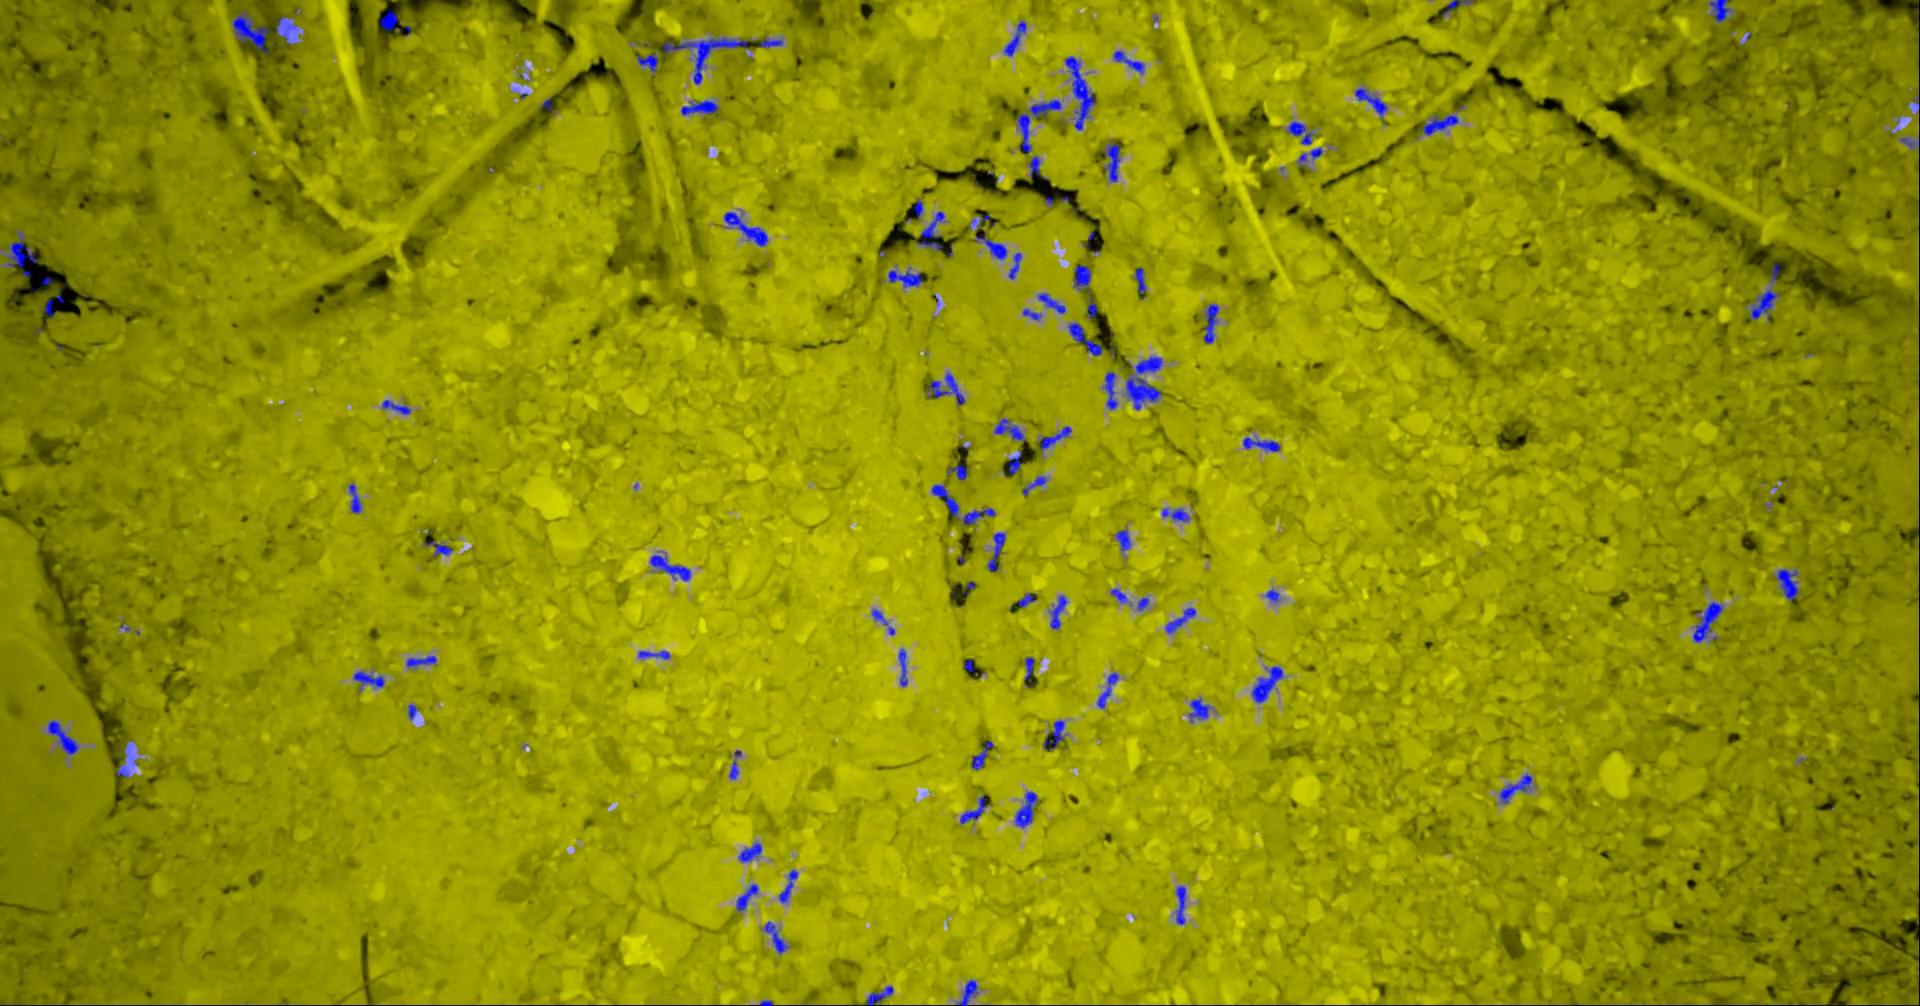ant: (662, 37, 747, 84), (1016, 99, 1062, 152), (1064, 56, 1095, 130), (1125, 356, 1162, 409), (232, 11, 269, 53), (723, 211, 767, 245), (6, 231, 38, 277), (1073, 264, 1096, 319), (1691, 601, 1722, 641), (927, 372, 964, 405), (1251, 666, 1283, 702), (1067, 323, 1102, 354), (916, 211, 943, 250), (649, 554, 690, 580), (1354, 88, 1387, 119), (47, 720, 77, 754), (930, 484, 957, 520), (1498, 774, 1531, 803), (1749, 288, 1779, 319), (959, 794, 987, 823), (1015, 791, 1037, 827), (975, 234, 1006, 259), (1164, 607, 1195, 633), (1096, 672, 1117, 708), (993, 418, 1025, 442), (1039, 426, 1070, 450), (1003, 20, 1025, 55), (1112, 50, 1144, 72), (1777, 568, 1799, 600), (764, 921, 787, 953), (1421, 116, 1458, 135), (987, 532, 1004, 572), (1043, 719, 1064, 749), (888, 268, 922, 287), (352, 669, 383, 690), (735, 883, 758, 911), (778, 869, 797, 902), (1288, 121, 1314, 144), (971, 741, 993, 768), (1203, 304, 1218, 343), (1049, 594, 1065, 629), (1103, 144, 1119, 180), (1242, 436, 1279, 451), (955, 979, 977, 1005), (963, 508, 996, 525), (276, 15, 295, 43), (1037, 293, 1065, 312), (1103, 371, 1117, 409), (866, 984, 891, 1005), (681, 100, 717, 114), (1443, 0, 1473, 17), (1708, 0, 1731, 22), (378, 8, 400, 30), (1022, 475, 1046, 495), (1297, 147, 1322, 166), (1189, 699, 1209, 721), (424, 540, 452, 556), (737, 842, 761, 861), (1003, 448, 1021, 474), (381, 399, 410, 414), (1112, 528, 1130, 551), (348, 483, 361, 513), (1175, 885, 1185, 923), (729, 749, 742, 779), (636, 53, 657, 71), (1008, 251, 1021, 279), (1161, 508, 1189, 521), (405, 655, 436, 667), (971, 213, 996, 227), (898, 649, 907, 686), (1023, 655, 1034, 687), (946, 464, 966, 479), (1134, 267, 1145, 293), (871, 608, 888, 625), (1110, 588, 1128, 602), (41, 298, 53, 318), (1022, 307, 1041, 320), (637, 650, 669, 658), (1029, 155, 1039, 178), (1017, 593, 1034, 607), (758, 38, 783, 47), (1898, 137, 1919, 147), (1769, 262, 1779, 282), (116, 763, 130, 777), (913, 199, 922, 218), (1265, 589, 1277, 602), (1137, 596, 1148, 610)
